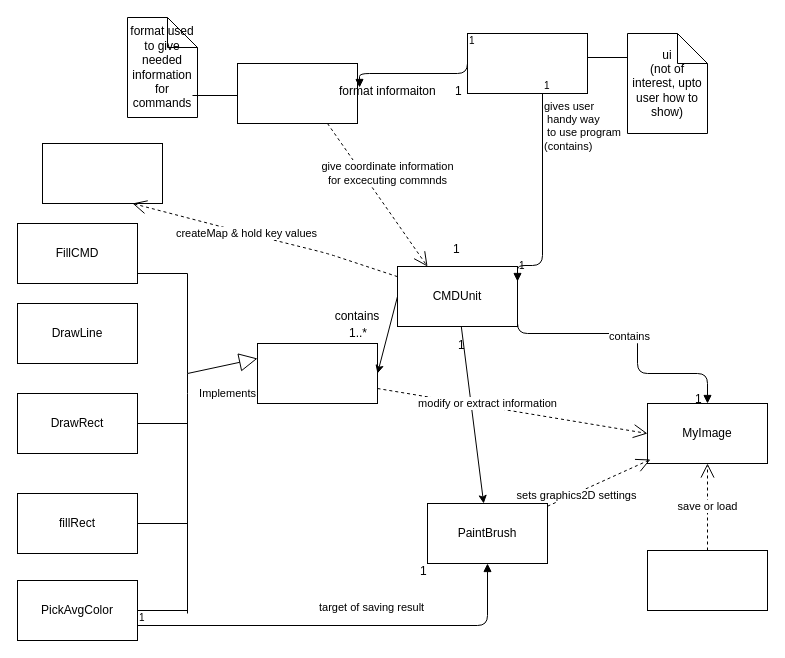
This 785x658 diagram has some shape labels left out. The shapes that lost their labels are listed below. From the top down, each one's centre as x and y in pixels, then its label:
[527,63]: ui
[297,93]: Area
[102,173]: CommandMap
[317,373]: <interface> commands
[707,580]: FileUtils
